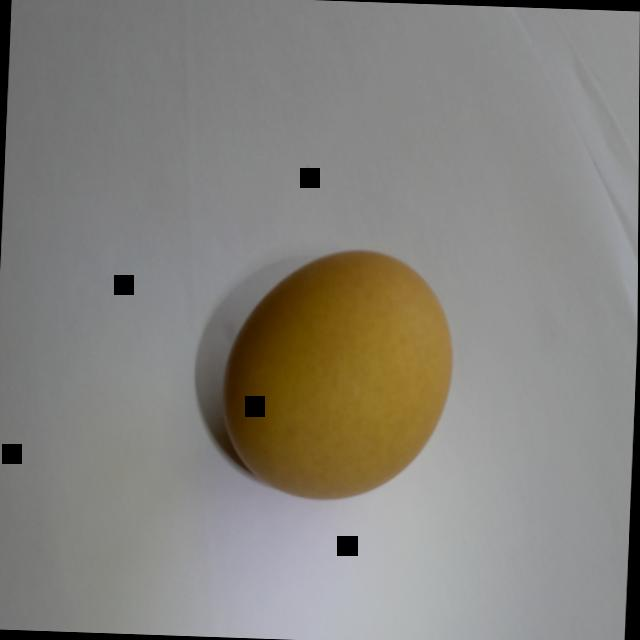Egg: (188, 216, 471, 516)
